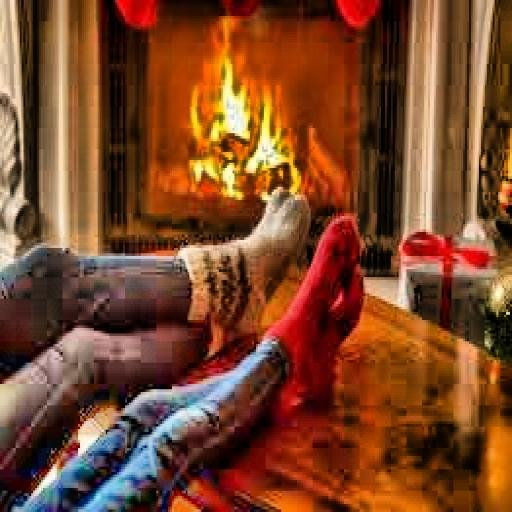fire: (178, 37, 367, 203)
